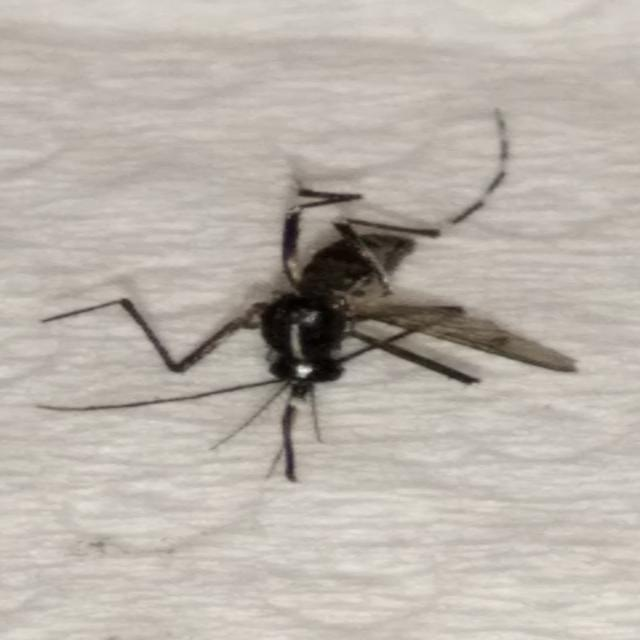albopictus: (33, 92, 591, 498)
